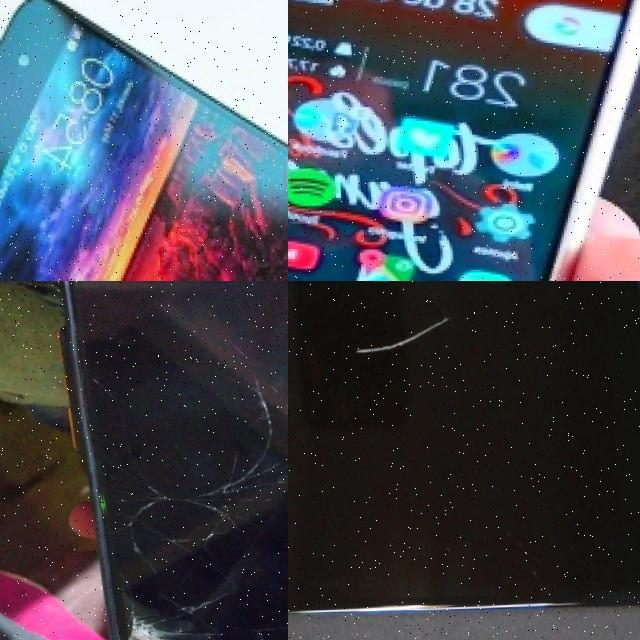scratch: (332, 281, 470, 388)
screen crack: (168, 361, 288, 518), (103, 582, 288, 640)
